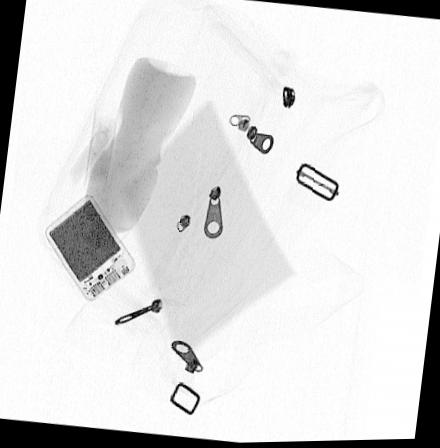Powerbank: (43, 196, 133, 301)
